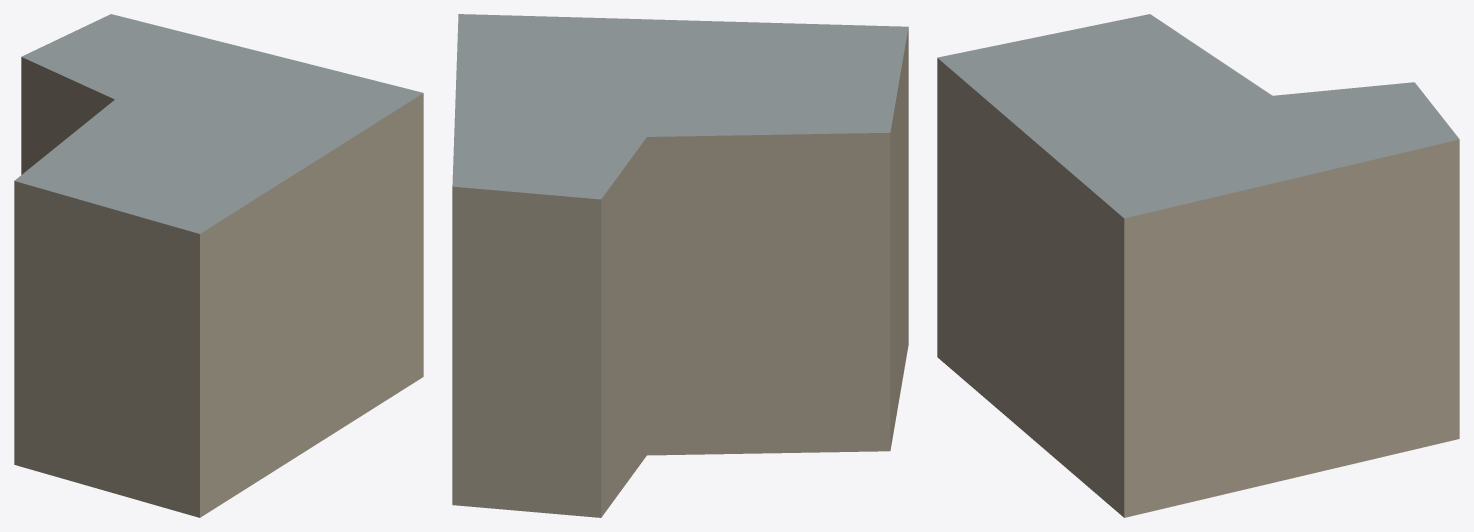
The picture shows the model from 3 angles, left to right: view 1: azimuth 30°, elevation 25°; view 2: azimuth 150°, elevation 25°; view 3: azimuth 270°, elevation 25°; orthographic projection. The views are drawn at different scales.
Visible parts, largest first — view 1: tuile; view 2: tuile; view 3: tuile.
Part boxes in pixels (left/top/right/bottom): tuile: left=14, top=14, right=423, bottom=517; tuile: left=452, top=14, right=908, bottom=517; tuile: left=937, top=14, right=1459, bottom=517.
Size of the model in its own units: 7.5 by 5.12 by 8.1.
